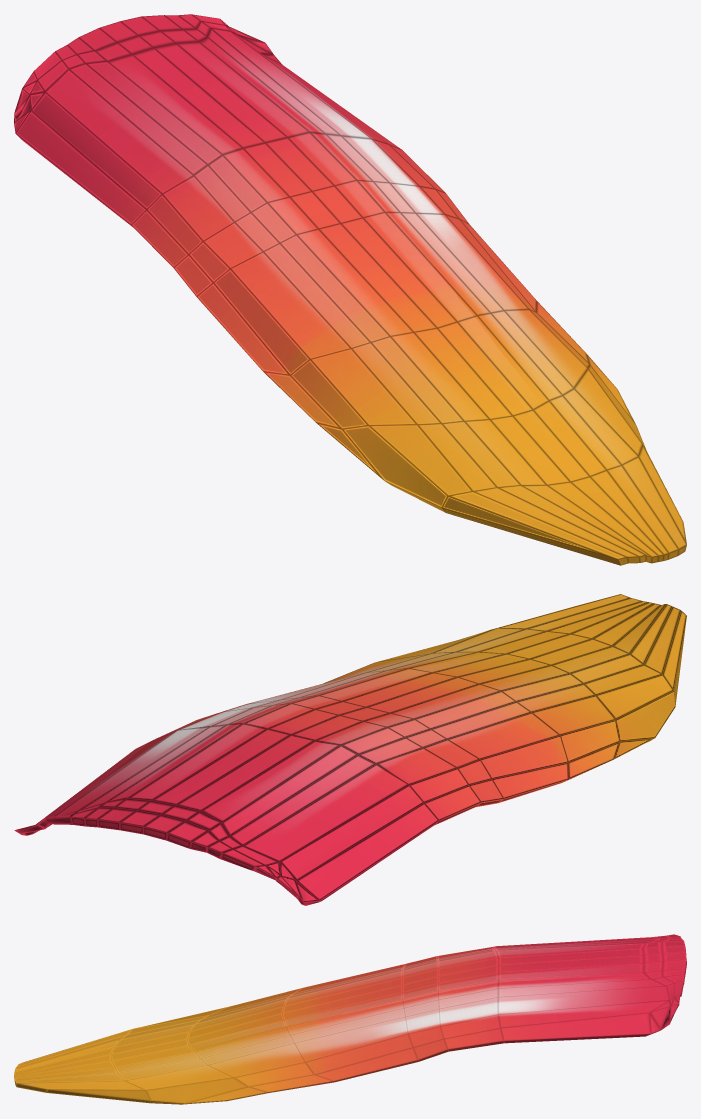
The model's file is only nail.fbx.
3 renders of one model, top to bottom at view 1: azimuth 30°, elevation 25°; view 2: azimuth 150°, elevation 25°; view 3: azimuth 270°, elevation 25°, orthographic. The views are drawn at different scales.
Parts seen in each view (by area): view 1: Acrylic nail EDITED; view 2: Acrylic nail EDITED; view 3: Acrylic nail EDITED.
Boxes of the visible parts, box(x1,y1,x2,y2) form: Acrylic nail EDITED: box(14, 14, 686, 565); Acrylic nail EDITED: box(14, 594, 686, 905); Acrylic nail EDITED: box(14, 934, 686, 1104).
Bounding box in the file's own units: 83.52 × 49.85 × 258.
1 material, 1 textured.
